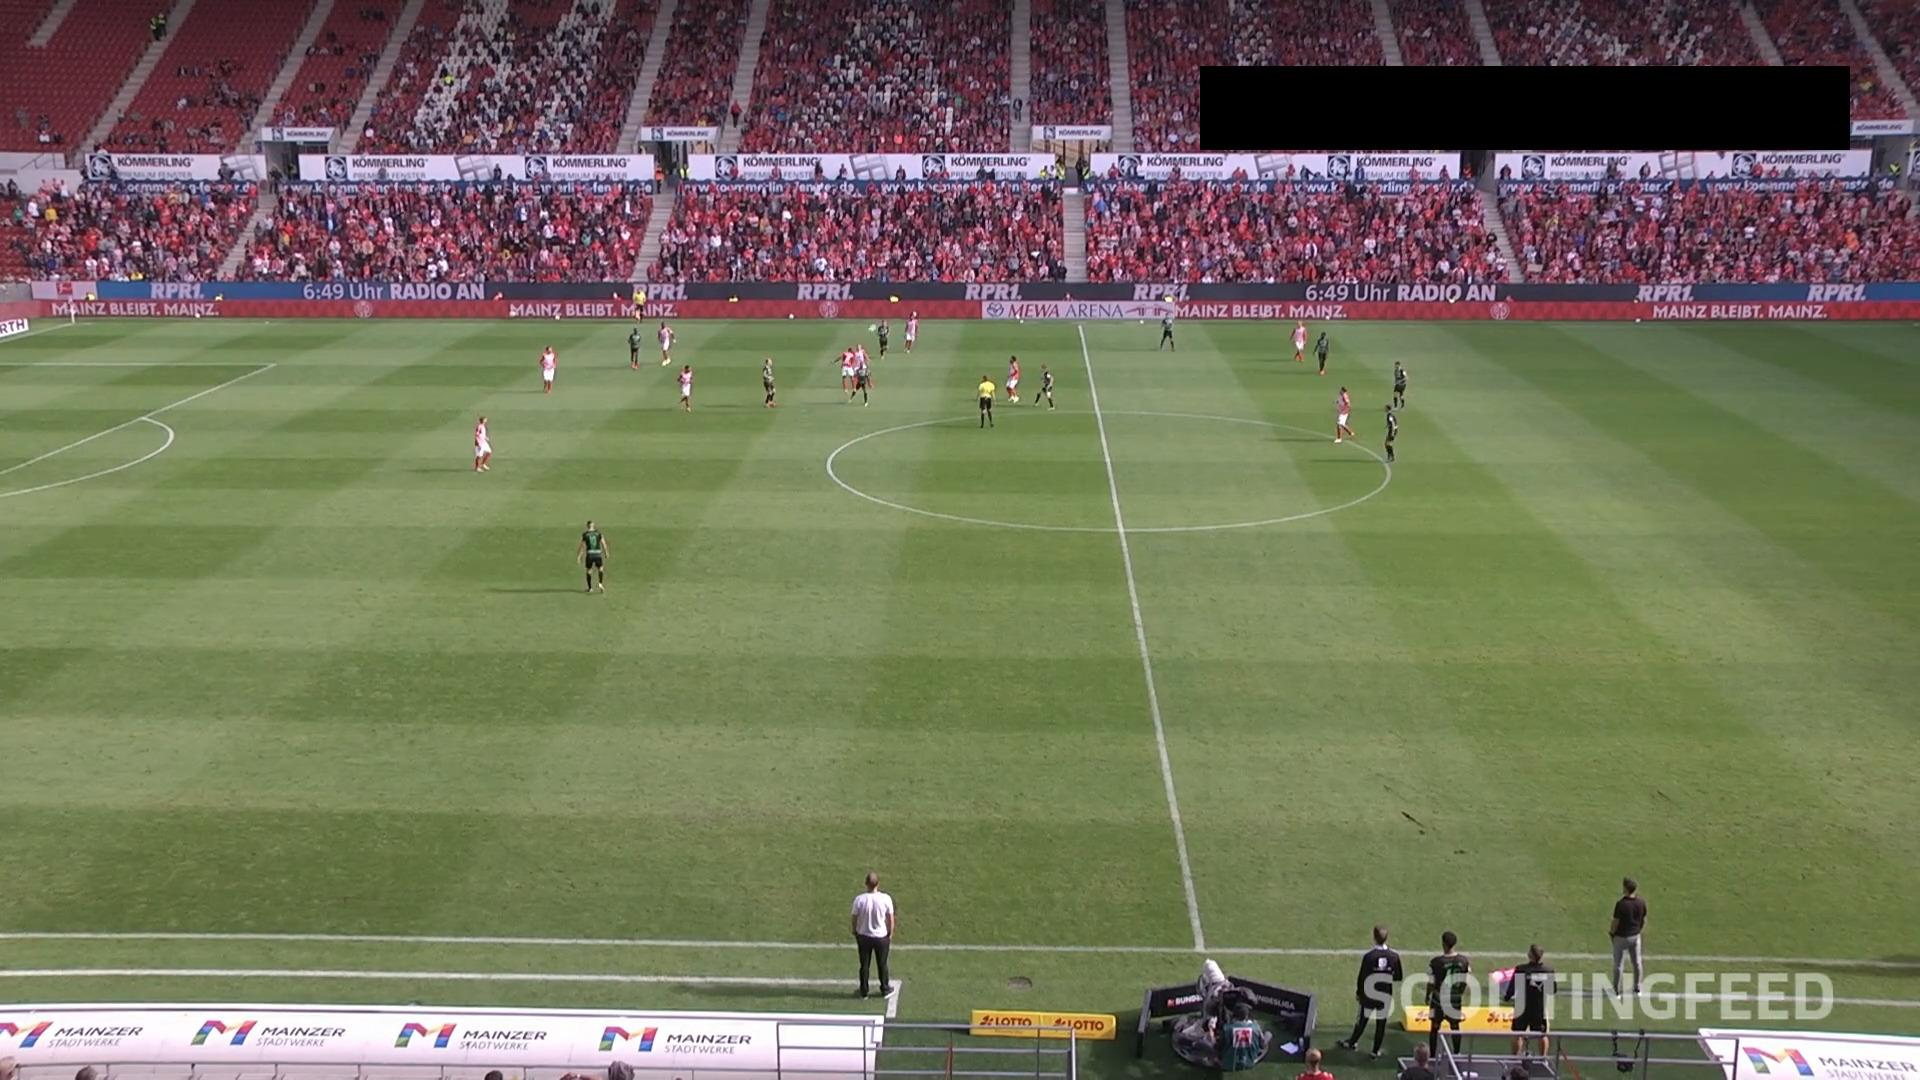ball: (865, 322, 878, 334)
player: (577, 519, 610, 595), (1332, 385, 1355, 445), (830, 346, 857, 394), (1380, 402, 1401, 463), (849, 363, 875, 407), (474, 415, 492, 474), (656, 320, 676, 367), (539, 344, 558, 393), (1035, 365, 1055, 411), (1391, 359, 1408, 413), (675, 363, 694, 411), (1312, 331, 1329, 375), (762, 357, 777, 406), (875, 316, 892, 359), (1006, 355, 1021, 403), (1290, 317, 1306, 361), (627, 327, 643, 370), (852, 344, 871, 378), (1160, 311, 1175, 353), (904, 311, 918, 354)
referee: (972, 373, 997, 429), (634, 286, 647, 323)
